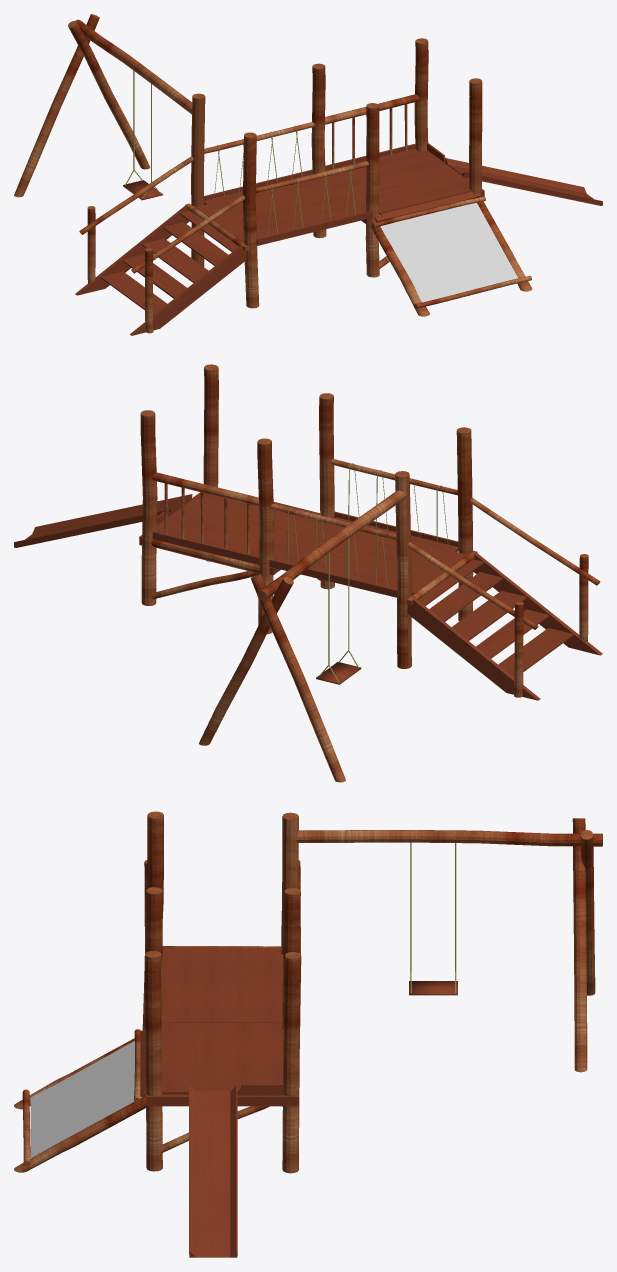
The model's file is Parquinho02.fbx.
The picture shows the model from 3 angles, top to bottom: view 1: azimuth 30°, elevation 25°; view 2: azimuth 150°, elevation 25°; view 3: azimuth 270°, elevation 25°; orthographic projection. The views are drawn at different scales.
Visible parts, largest first — view 1: Cube.000, Cube.001; view 2: Cube.000; view 3: Cube.000, Cube.001.
Part boxes in pixels (bbox=[...]): Cube.000: bbox=[14, 14, 602, 335]; Cube.001: bbox=[380, 203, 517, 302]; Cube.000: bbox=[14, 364, 602, 782]; Cube.000: bbox=[14, 811, 602, 1257]; Cube.001: bbox=[30, 1041, 134, 1157].
Size of the model in its own units: 8.44 by 2.82 by 6.95.
